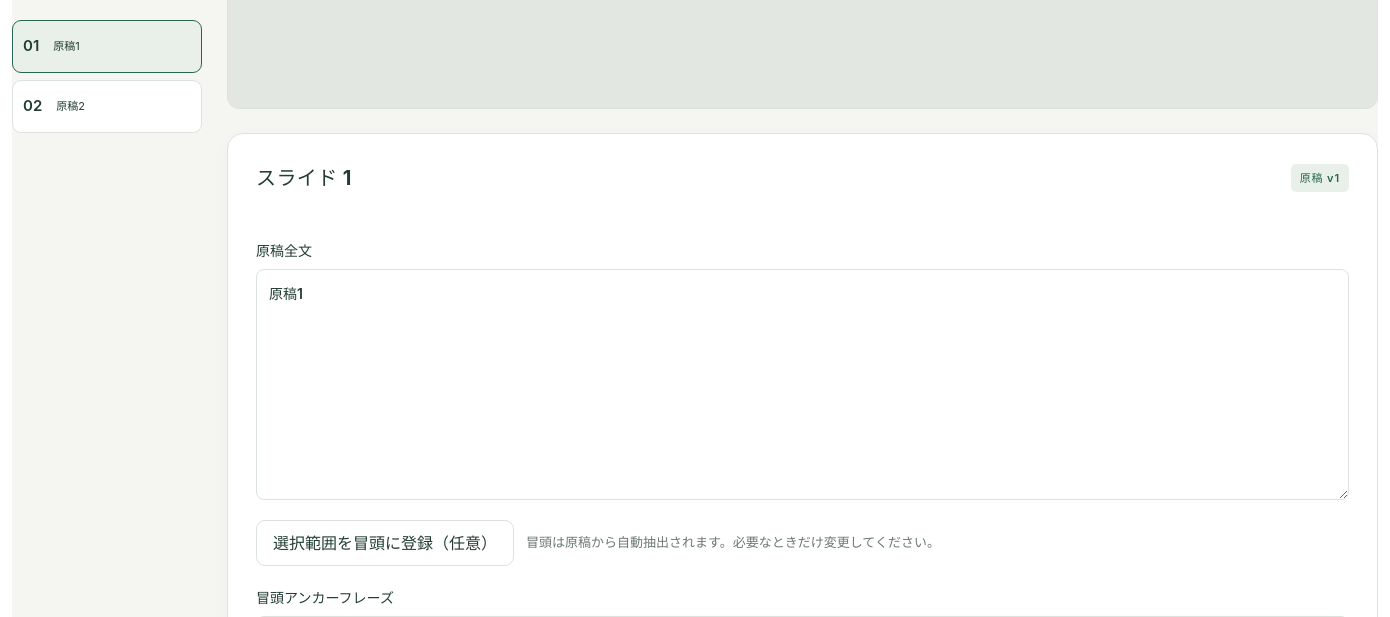
Test: editor durable autosave › keeps one slide failed after another saves and retries only unsaved latest content
(page scrolled)
Replace the text in the text box labelled "原稿全文" with "失敗した編集" at (802, 384), box x1=256 y1=269 x2=1349 y2=500
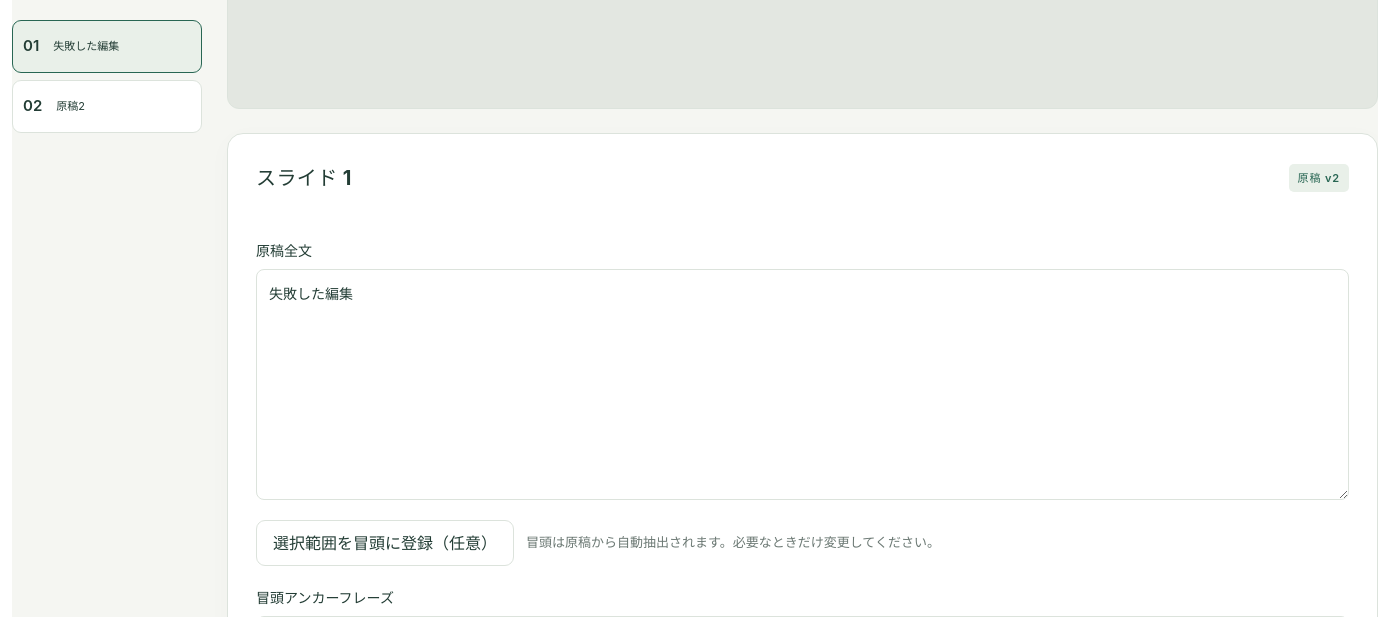
Click the button "02 原稿2" at (107, 106), box x1=12 y1=80 x2=202 y2=133
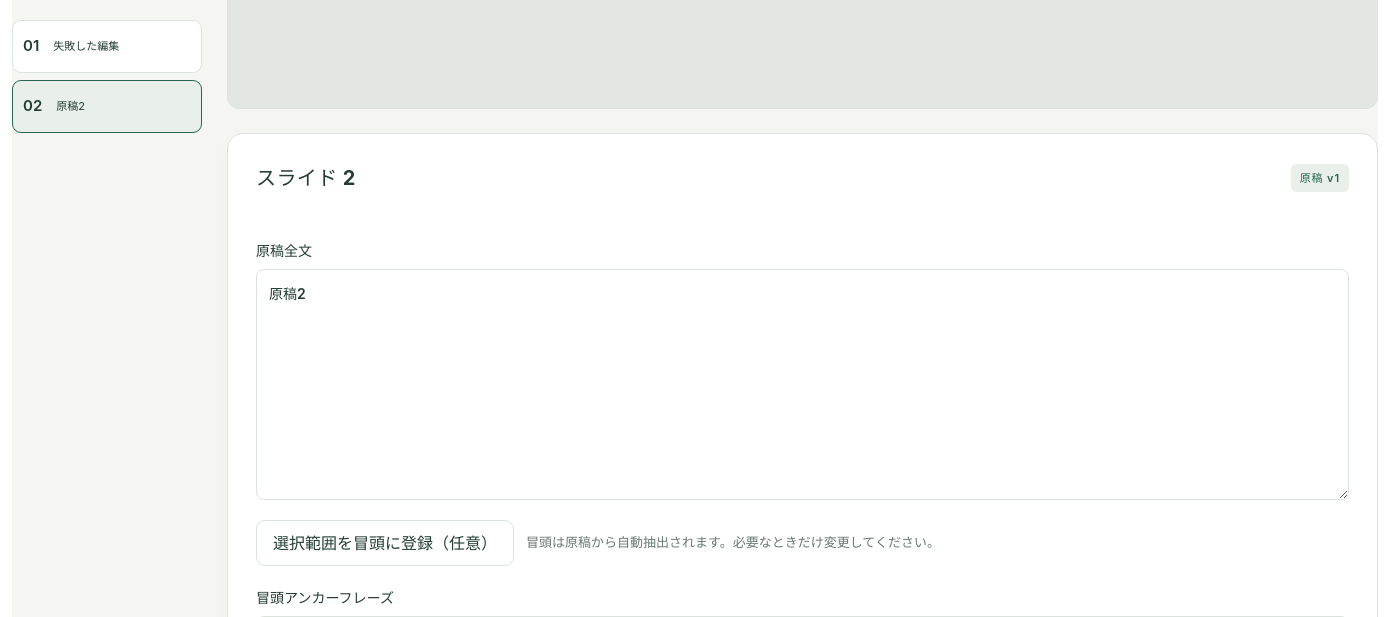
Replace the text in the text box labelled "原稿全文" with "保存できた編集" at (802, 384), box x1=256 y1=269 x2=1349 y2=500
(page scrolled)
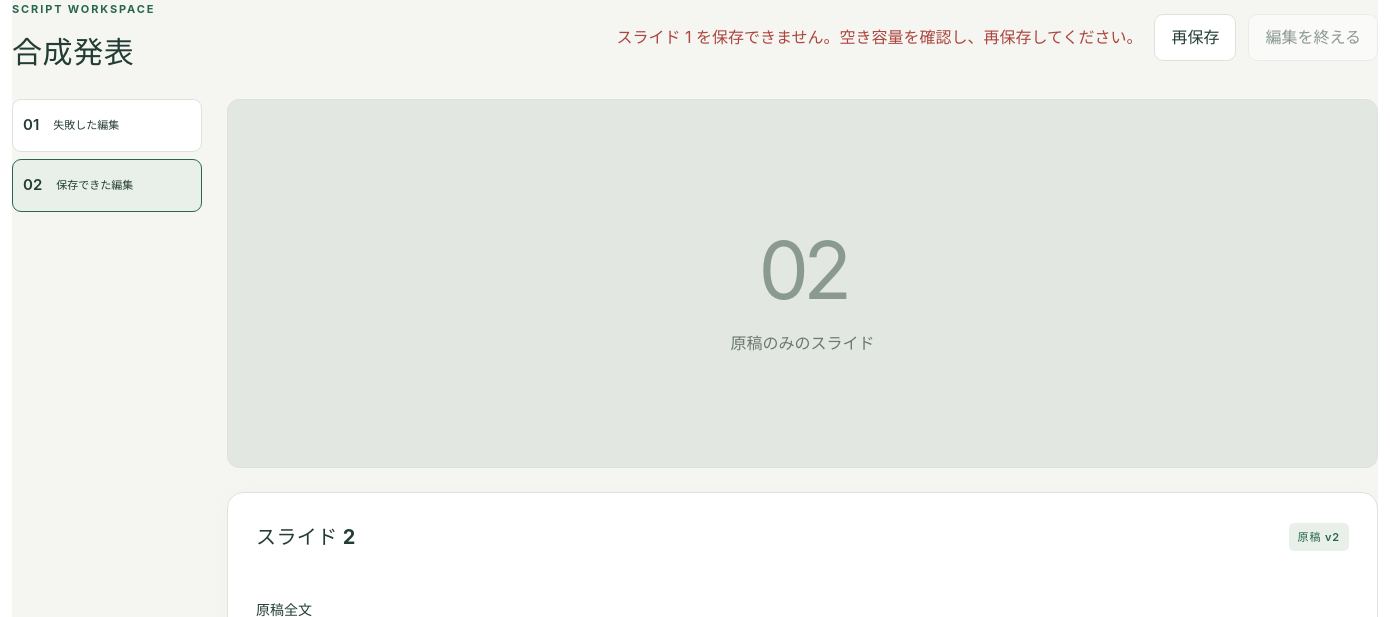
Check: the button "再保存" is enabled
Check: the message shows "スライド 1 を保存できません", box x1=616 y1=27 x2=1142 y2=47
Check: the button "編集を終える" is disabled, box x1=1248 y1=14 x2=1378 y2=61
Click the button "再保存" at (1196, 38), box x1=1154 y1=14 x2=1236 y2=61
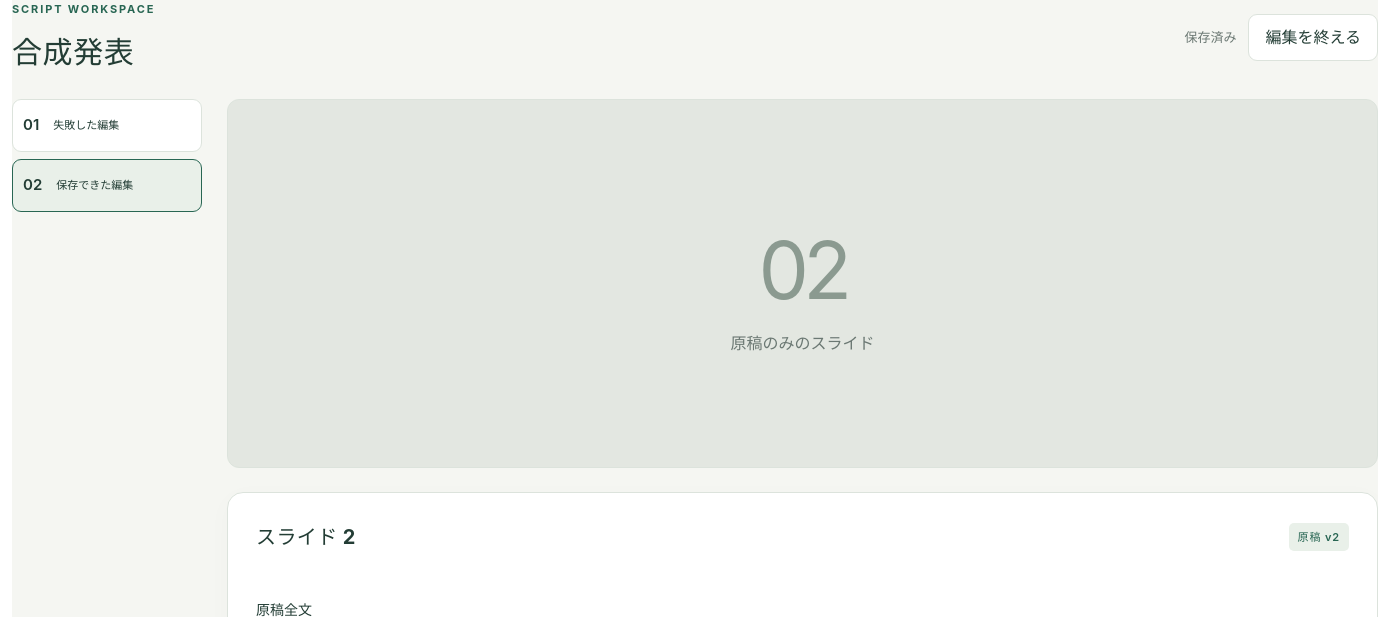
Check: the message reads "保存済み", box x1=1184 y1=29 x2=1236 y2=45
Check: the button "編集を終える" is enabled, box x1=1248 y1=14 x2=1378 y2=61
